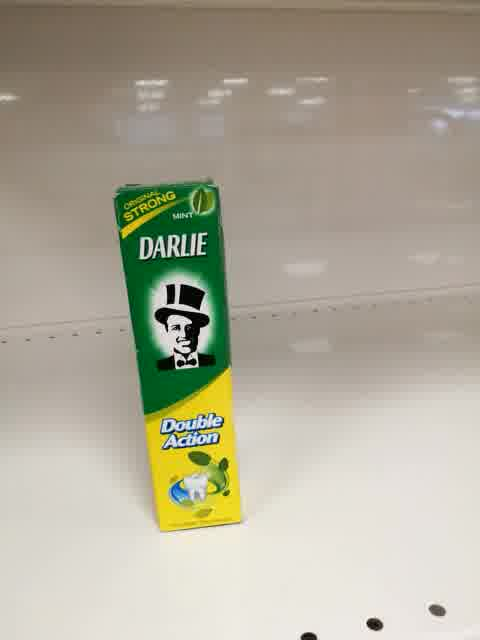toothpaste: (112, 179, 243, 533)
